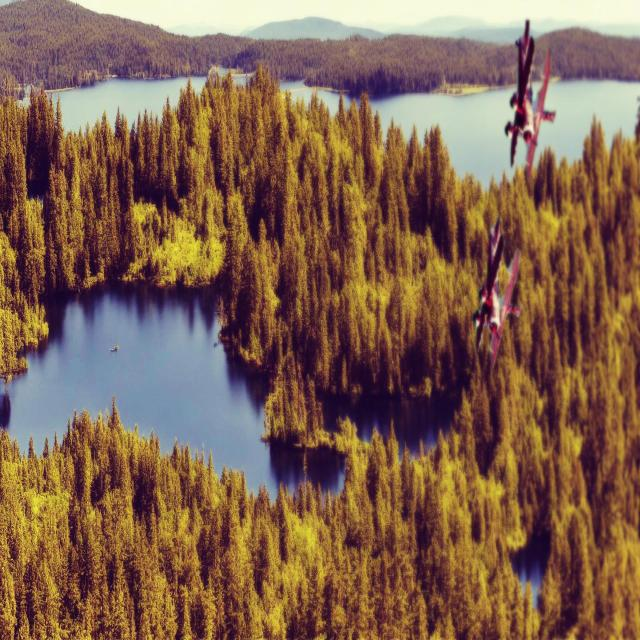airplane: (504, 18, 556, 182), (472, 216, 521, 370)
